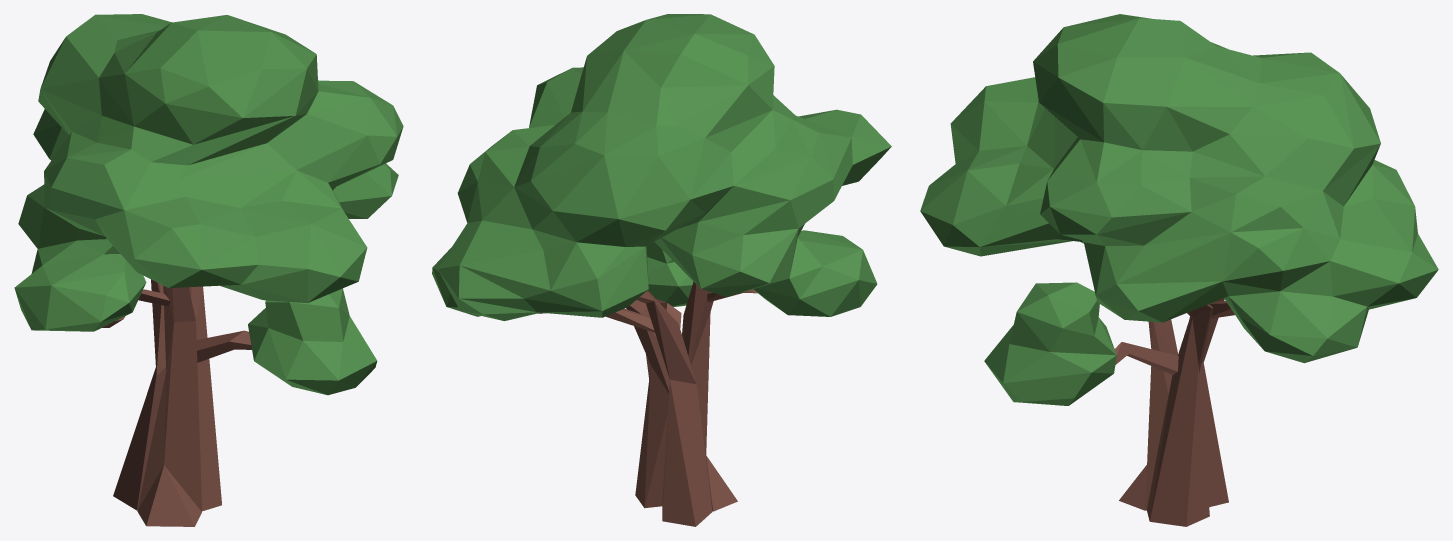
Rendered from BigTree.glb.
3 views of the same model, side by side, from view 1: azimuth 30°, elevation 25°; view 2: azimuth 150°, elevation 25°; view 3: azimuth 270°, elevation 25° (orthographic). The views are drawn at different scales.
Visible parts, largest first — view 1: Mball.016; view 2: Mball.016; view 3: Mball.016.
Part boxes in pixels (box(x1,y1,x2,y2)): Mball.016: box(14, 14, 403, 526); Mball.016: box(432, 14, 891, 526); Mball.016: box(920, 14, 1438, 526).
Bounding box in the file's own units: 4.05 × 4.95 × 4.76.
